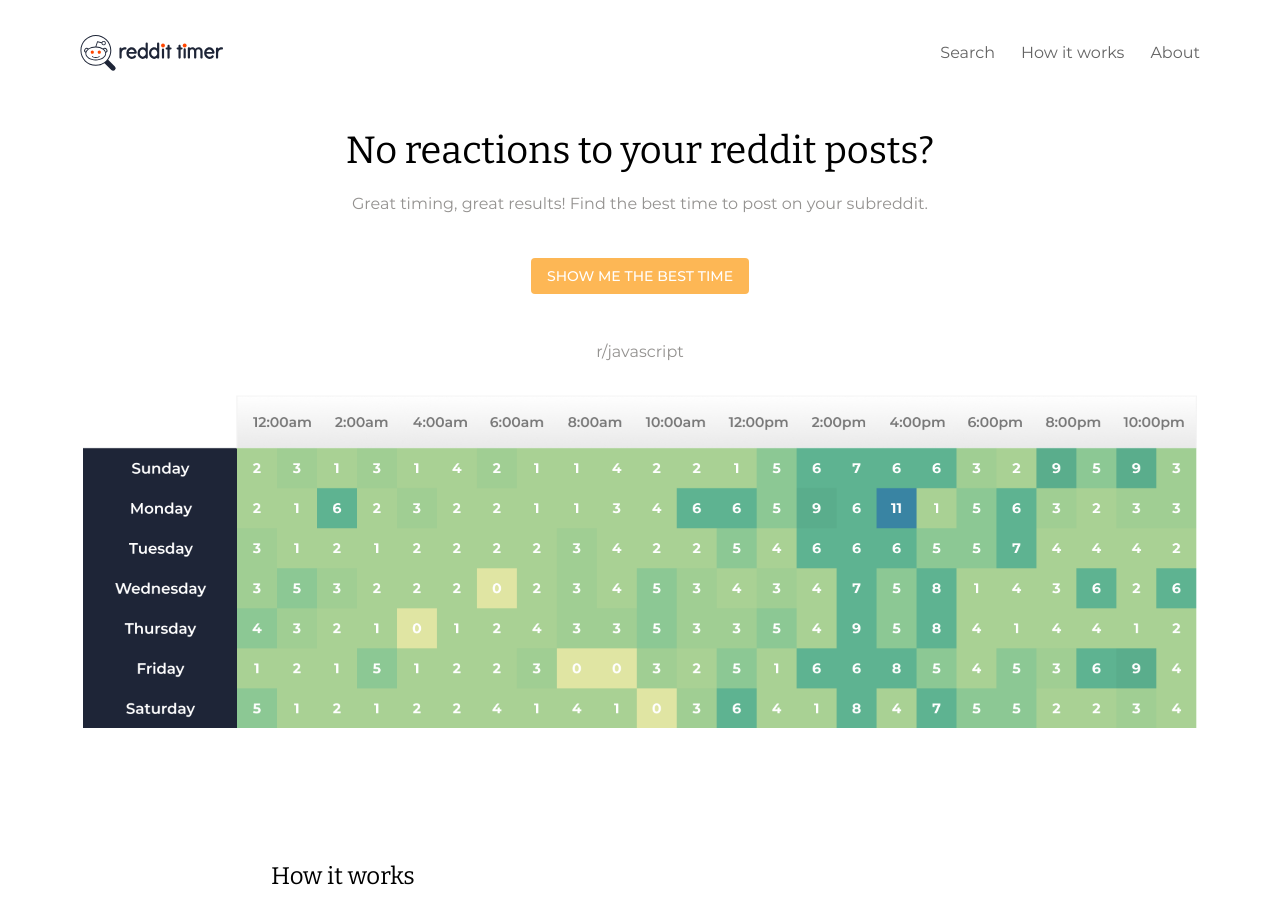
Test: Testing Header Navigation › navigates to search page when search link is clicked
The width and height of the screenshot is (1280, 900).
Click the link "Search" at (968, 52), box [940, 43, 995, 62]
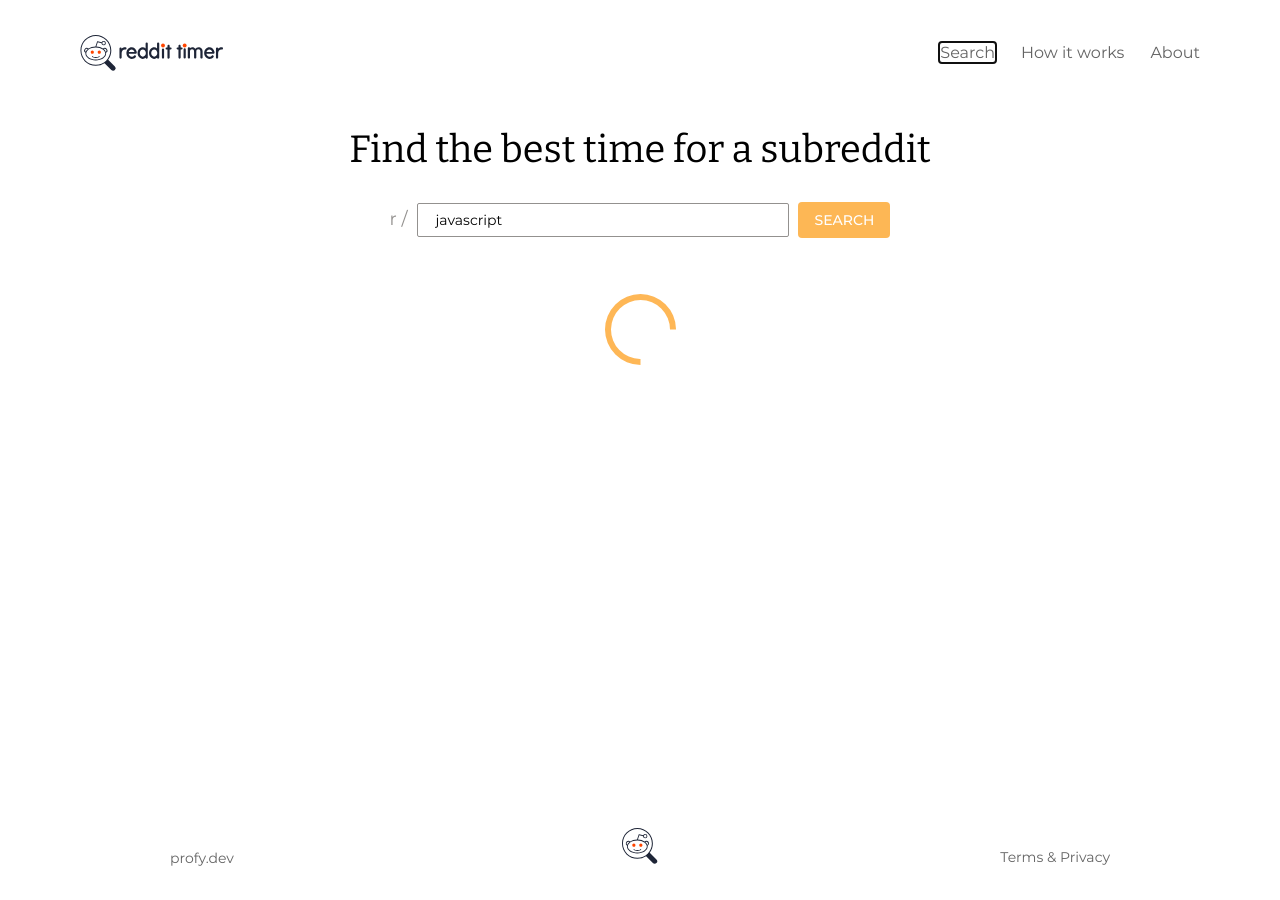
Expected: the heading "Find the best time for a subreddit" is shown, [349, 126, 931, 172]
